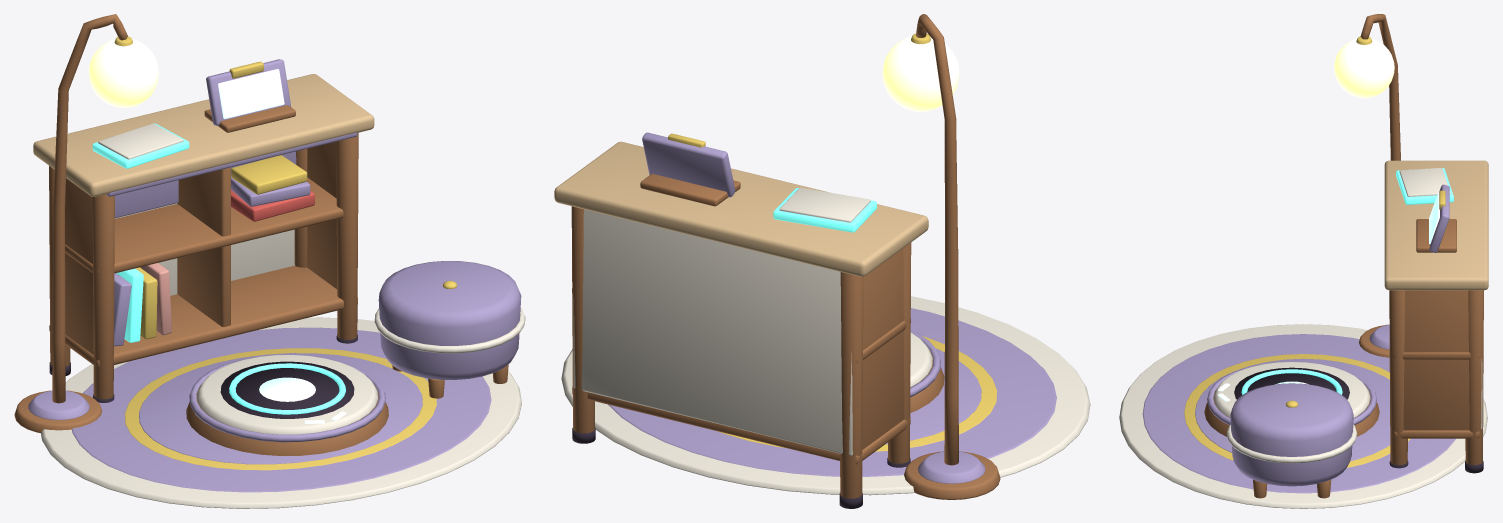
Rendered from bot-station.glb.
The picture shows the model from 3 angles, left to right: view 1: azimuth 30°, elevation 25°; view 2: azimuth 150°, elevation 25°; view 3: azimuth 270°, elevation 25°; orthographic projection. The views are drawn at different scales.
Parts seen in each view (by area): view 1: Station_BackConsole, Station_Rug, Station_Pouf, Station_Books, Station_DockPedestal, Station_LampStem, Station_ChargeRing, Station_StudySign, Station_LampGlobe; view 2: Station_BackConsole, Station_Rug, Station_LampStem, Station_StudySign, Station_LampGlobe, Station_Books, Station_DockPedestal; view 3: Station_Rug, Station_BackConsole, Station_Pouf, Station_DockPedestal, Station_LampGlobe, Station_LampStem, Station_ChargeRing, Station_StudySign, Station_Books.
Part boxes in pixels (<box>): Station_BackConsole: <box>33,74,374,402</box>; Station_Rug: <box>41,317,521,508</box>; Station_Pouf: <box>374,261,525,398</box>; Station_Books: <box>92,123,314,346</box>; Station_DockPedestal: <box>186,355,388,455</box>; Station_LampStem: <box>14,14,132,432</box>; Station_ChargeRing: <box>220,361,354,423</box>; Station_StudySign: <box>204,59,295,132</box>; Station_LampGlobe: <box>88,39,158,107</box>; Station_BackConsole: <box>554,141,928,508</box>; Station_Rug: <box>561,296,1090,495</box>; Station_LampStem: <box>904,14,1000,499</box>; Station_StudySign: <box>640,132,740,206</box>; Station_LampGlobe: <box>882,36,959,111</box>; Station_Books: <box>773,187,876,232</box>; Station_DockPedestal: <box>910,330,944,412</box>; Station_Rug: <box>1119,324,1487,508</box>; Station_BackConsole: <box>1384,160,1488,473</box>; Station_Pouf: <box>1226,383,1357,498</box>; Station_DockPedestal: <box>1204,361,1379,436</box>; Station_LampGlobe: <box>1334,38,1394,98</box>; Station_LampStem: <box>1356,14,1400,357</box>; Station_ChargeRing: <box>1218,367,1349,401</box>; Station_StudySign: <box>1416,184,1456,252</box>; Station_Books: <box>1396,168,1453,204</box>.
Bounding box in the file's own units: 1.53 × 1.33 × 1.28.
